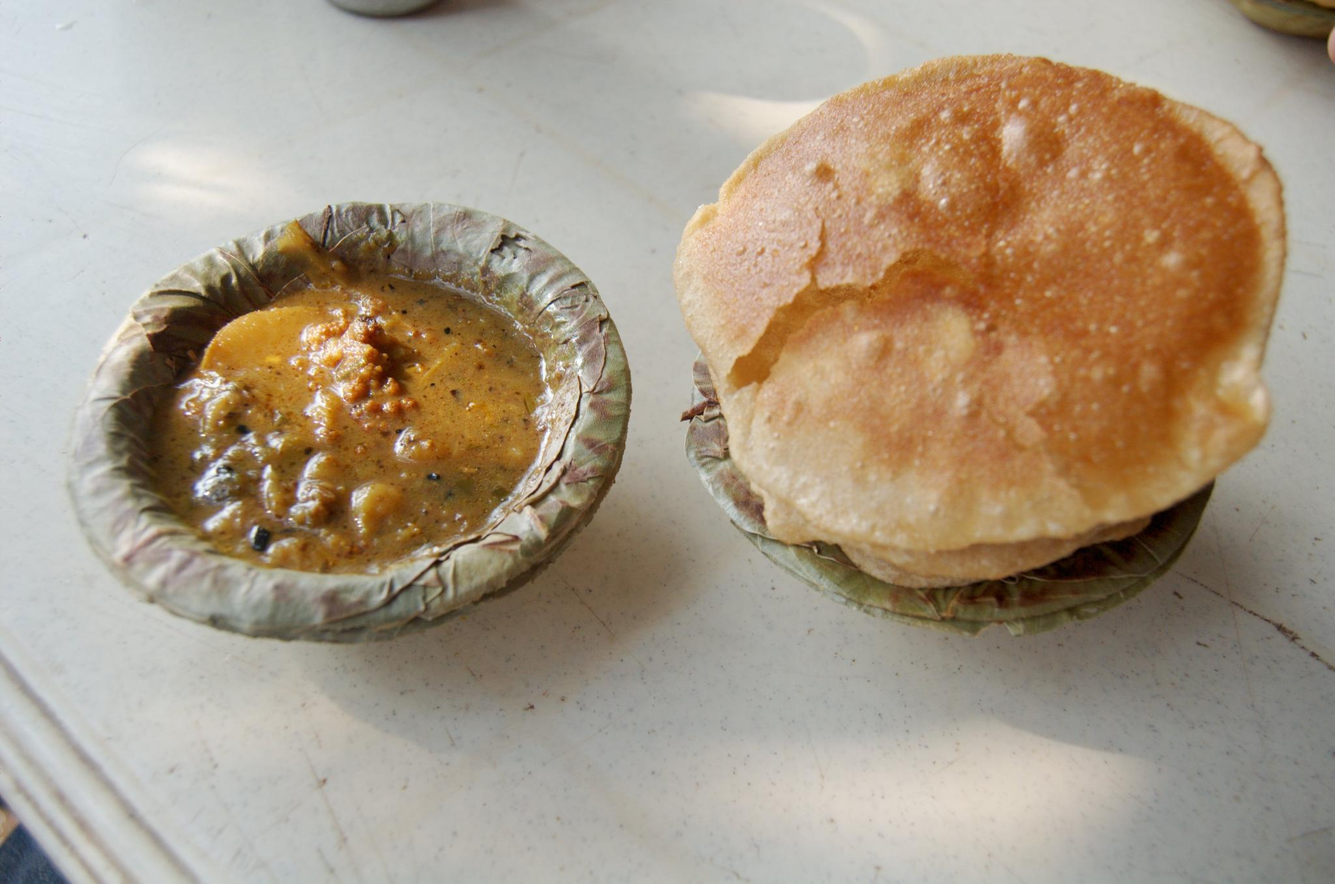puri: (707, 57, 1287, 540)
